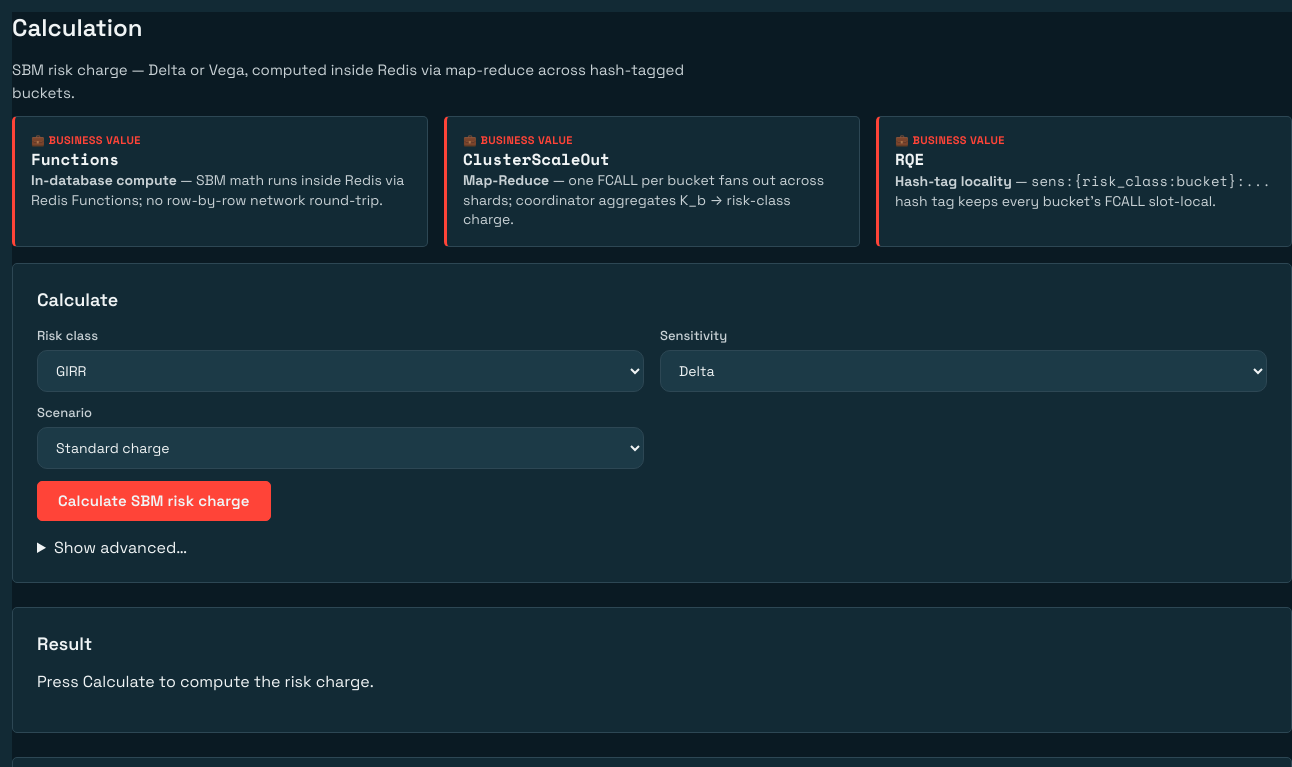
<CalcPanel /> friendly empty-target banner (Wave 5.16z3) › 412 bootstrap response renders the amber banner with target_label + bootstrap_phase, not the red alert
This screenshot has width=1292, height=767.
Click the button "Calculate SBM risk charge".
click(154, 501)  # box [37,481,271,521]
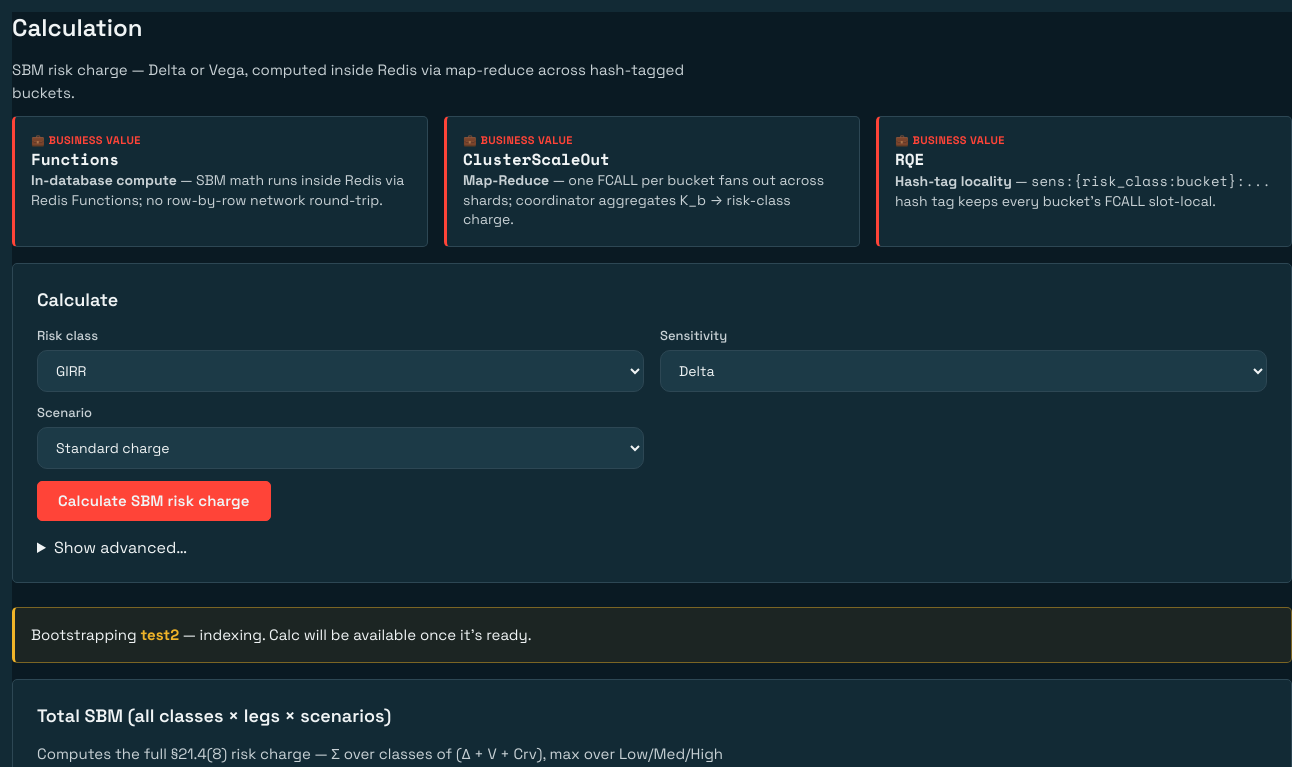
Expected: the message with test id "empty-target-banner" shows "Bootstrapping", [31,625,140,644]
Expected: the message with test id "empty-target-banner" shows "test2", [140,625,179,644]
Expected: the message with test id "empty-target-banner" shows "indexing", [200,625,262,644]
